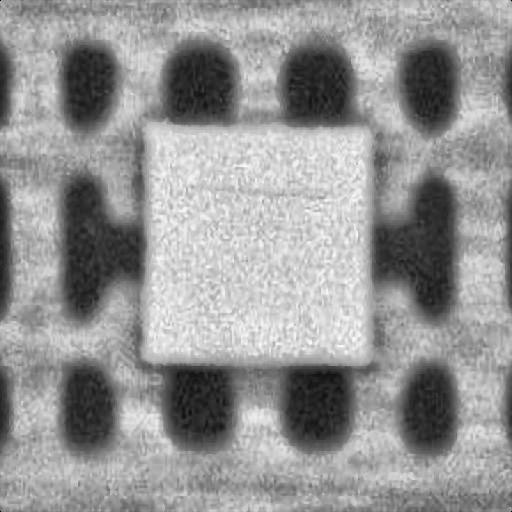DIE_CRACK: (284, 122, 483, 130)
